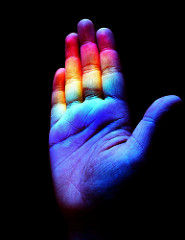palm: (46, 97, 148, 204)
